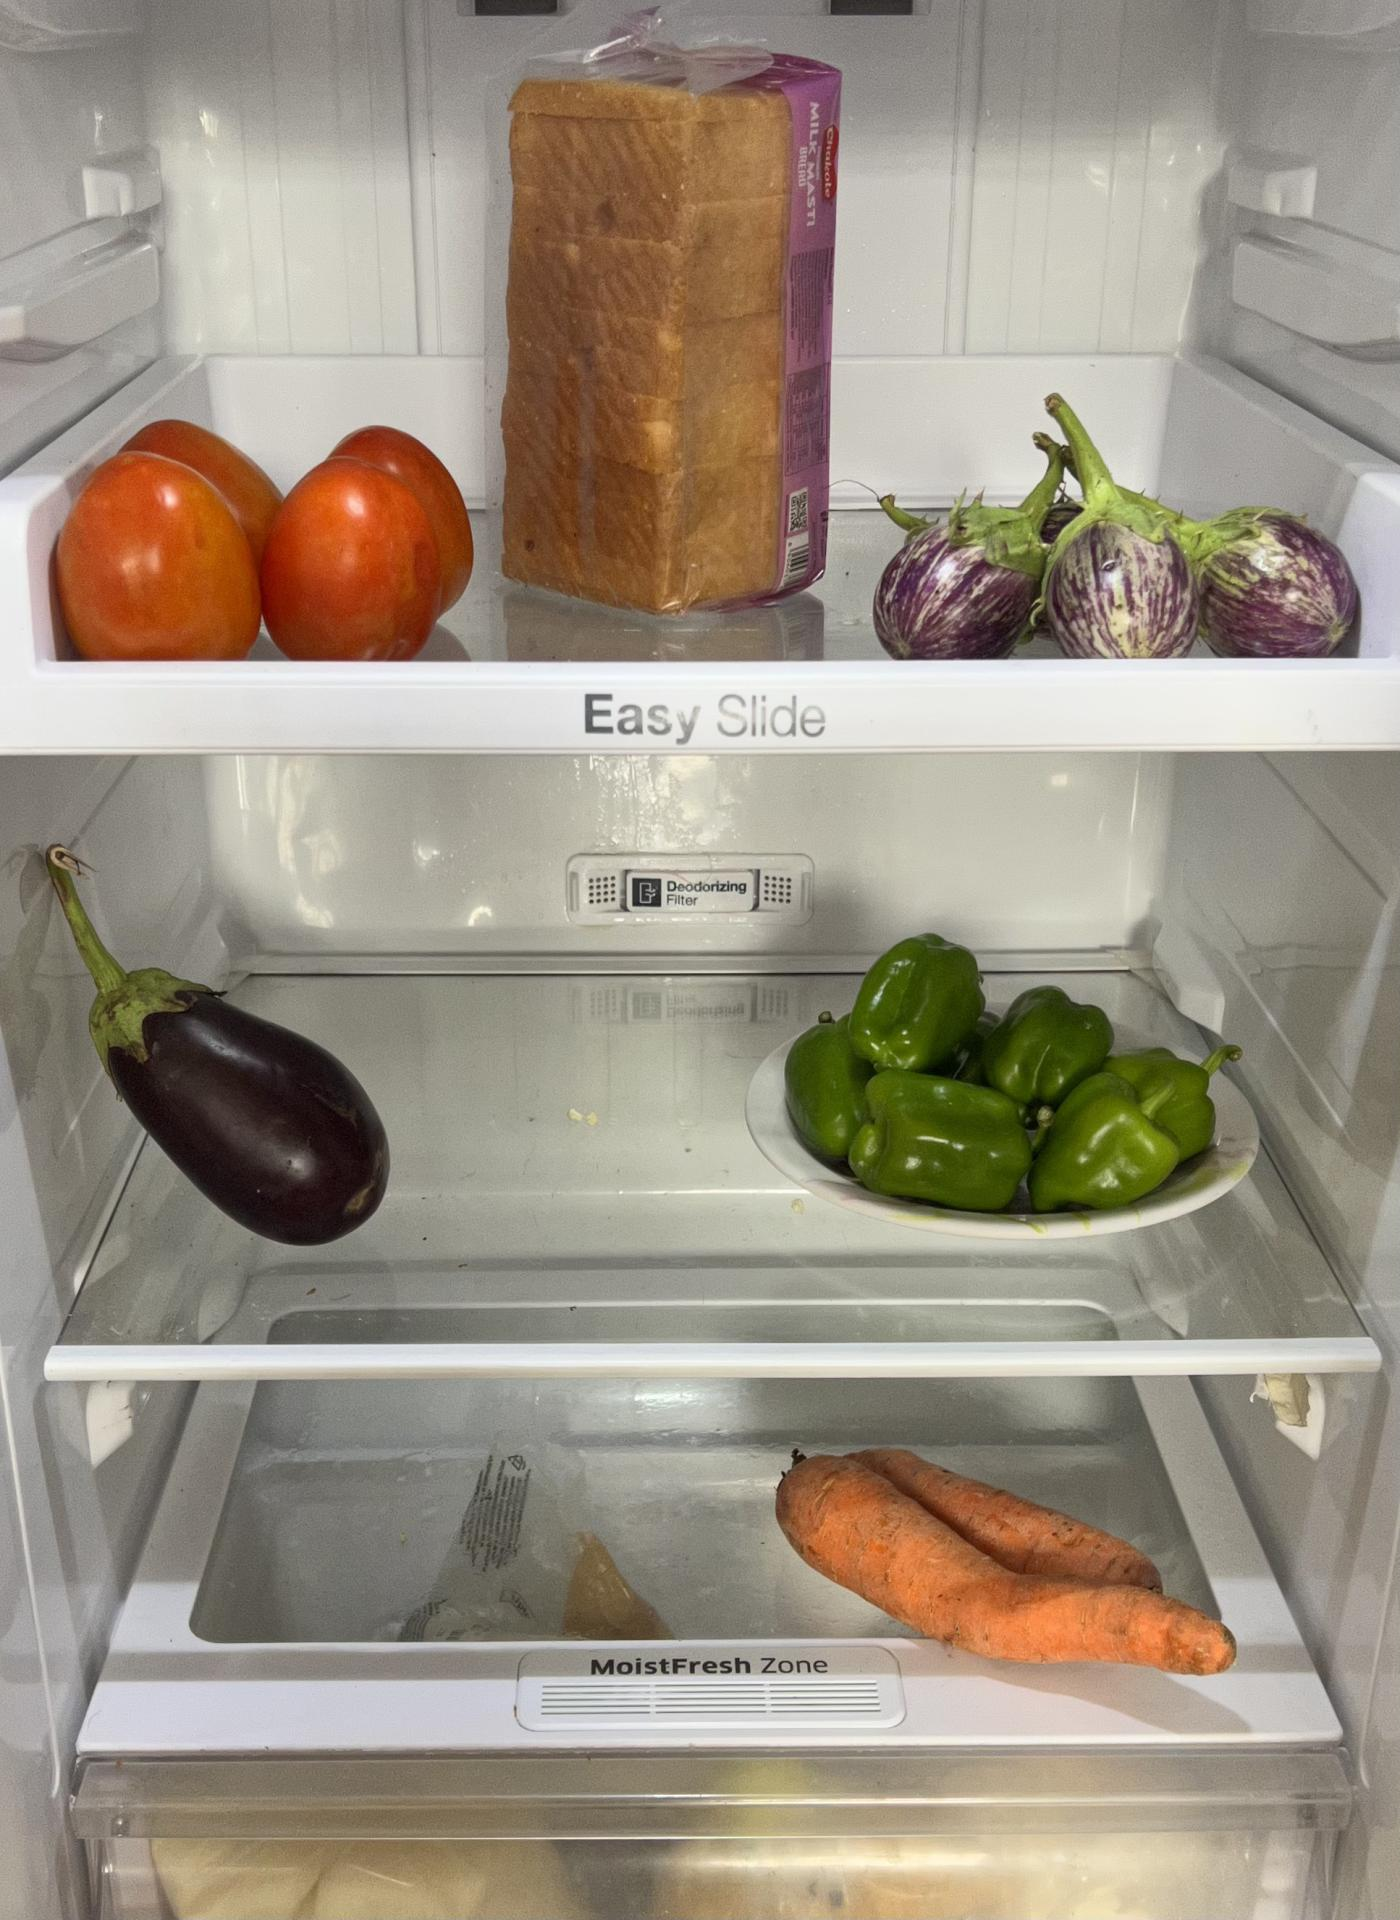bread: (486, 39, 839, 605)
capsicum: (783, 927, 1221, 1209)
carrots: (772, 1434, 1243, 1680)
tomato: (52, 417, 471, 662)
